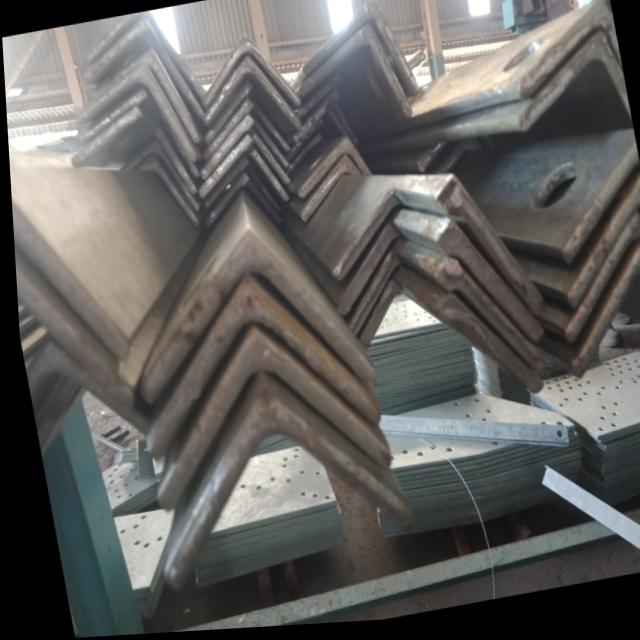metal-angles: (157, 388, 409, 593), (151, 328, 387, 511), (142, 278, 375, 458), (136, 226, 370, 402), (81, 19, 203, 120), (333, 213, 447, 320), (76, 64, 194, 165), (300, 1, 418, 98), (343, 243, 458, 340), (83, 50, 197, 147), (296, 27, 410, 123), (330, 190, 444, 284), (200, 35, 300, 110), (202, 57, 299, 133), (198, 118, 287, 187), (196, 137, 286, 204), (201, 102, 287, 172), (117, 138, 196, 212), (294, 140, 370, 201), (200, 159, 278, 216), (135, 158, 196, 228), (203, 175, 278, 229)
